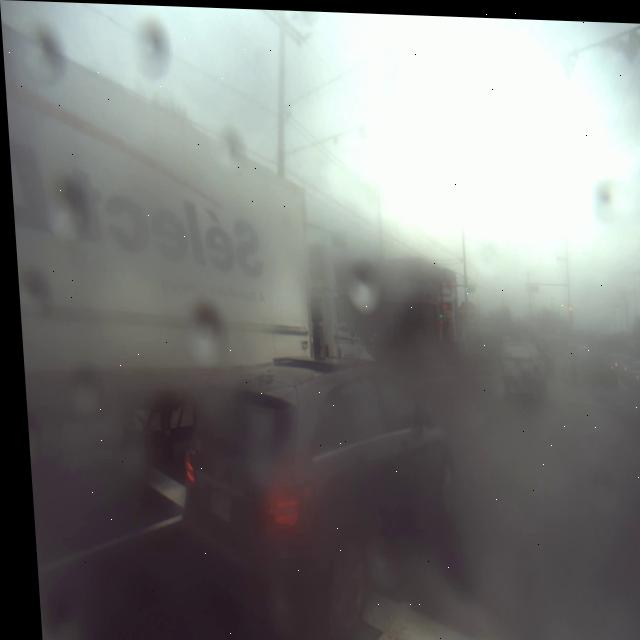car: (179, 332, 457, 608)
truck: (9, 171, 389, 482)
